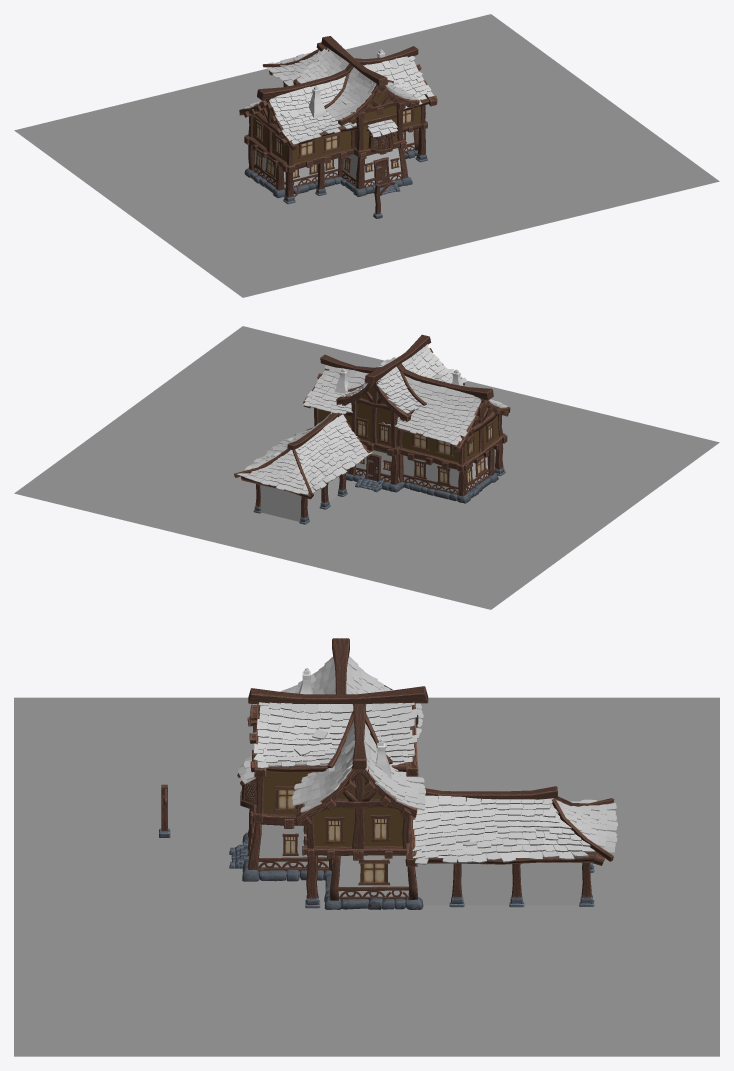
File: tes_02.FBX
3 views of the same model, one above another, from view 1: azimuth 30°, elevation 25°; view 2: azimuth 150°, elevation 25°; view 3: azimuth 270°, elevation 25° (orthographic). The views are drawn at different scales.
Visible parts, largest first — view 1: Plane093, Object968, Object961, Object896, Object962, Plane094, Rock01_low002, Pillar019, Object785, Object798, Windowglass_017, Object963 (+1 smaller); view 2: Plane093, Object963, Object968, Object961, Object896, Object962, Pillar019, Plane094, Object965, Object895, Rock01_low002, Windowglass_017 (+3 smaller); view 3: Plane093, Object963, Object961, Object895, Object962, Object896, Plane094, Object798, Rock01_low002, Object968, Object965, Pillar019 (+9 smaller).
Boxes of the visible parts, bbox=[...] form: Plane093: bbox=[14, 14, 719, 297]; Object968: bbox=[243, 76, 356, 144]; Object961: bbox=[296, 48, 417, 120]; Object896: bbox=[253, 106, 421, 163]; Object962: bbox=[363, 56, 434, 109]; Plane094: bbox=[255, 130, 414, 187]; Rock01_low002: bbox=[244, 150, 417, 197]; Pillar019: bbox=[255, 108, 415, 178]; Object785: bbox=[257, 63, 353, 100]; Object798: bbox=[321, 36, 387, 86]; Windowglass_017: bbox=[257, 110, 411, 177]; Object963: bbox=[266, 50, 320, 85]; Plane093: bbox=[14, 326, 719, 609]; Object963: bbox=[244, 412, 372, 493]; Object968: bbox=[382, 376, 508, 445]; Object961: bbox=[343, 344, 467, 413]; Object896: bbox=[318, 403, 498, 462]; Object962: bbox=[303, 365, 368, 414]; Pillar019: bbox=[355, 417, 494, 485]; Plane094: bbox=[328, 450, 488, 501]; Object965: bbox=[236, 450, 308, 495]; Object895: bbox=[260, 485, 301, 521]; Rock01_low002: bbox=[339, 473, 498, 503]; Windowglass_017: bbox=[358, 420, 491, 482]; Plane093: bbox=[14, 697, 719, 1056]; Object963: bbox=[412, 795, 606, 864]; Object961: bbox=[253, 702, 417, 768]; Object895: bbox=[415, 862, 582, 905]; Object962: bbox=[292, 721, 425, 812]; Object896: bbox=[263, 772, 403, 846]; Plane094: bbox=[258, 824, 408, 900]; Object798: bbox=[248, 686, 428, 704]; Rock01_low002: bbox=[242, 832, 423, 909]; Object968: bbox=[280, 655, 423, 739]; Object965: bbox=[556, 800, 617, 853]; Pillar019: bbox=[274, 786, 390, 885].
Bounding box in the file's own units: 4148 × 3446 × 955.
